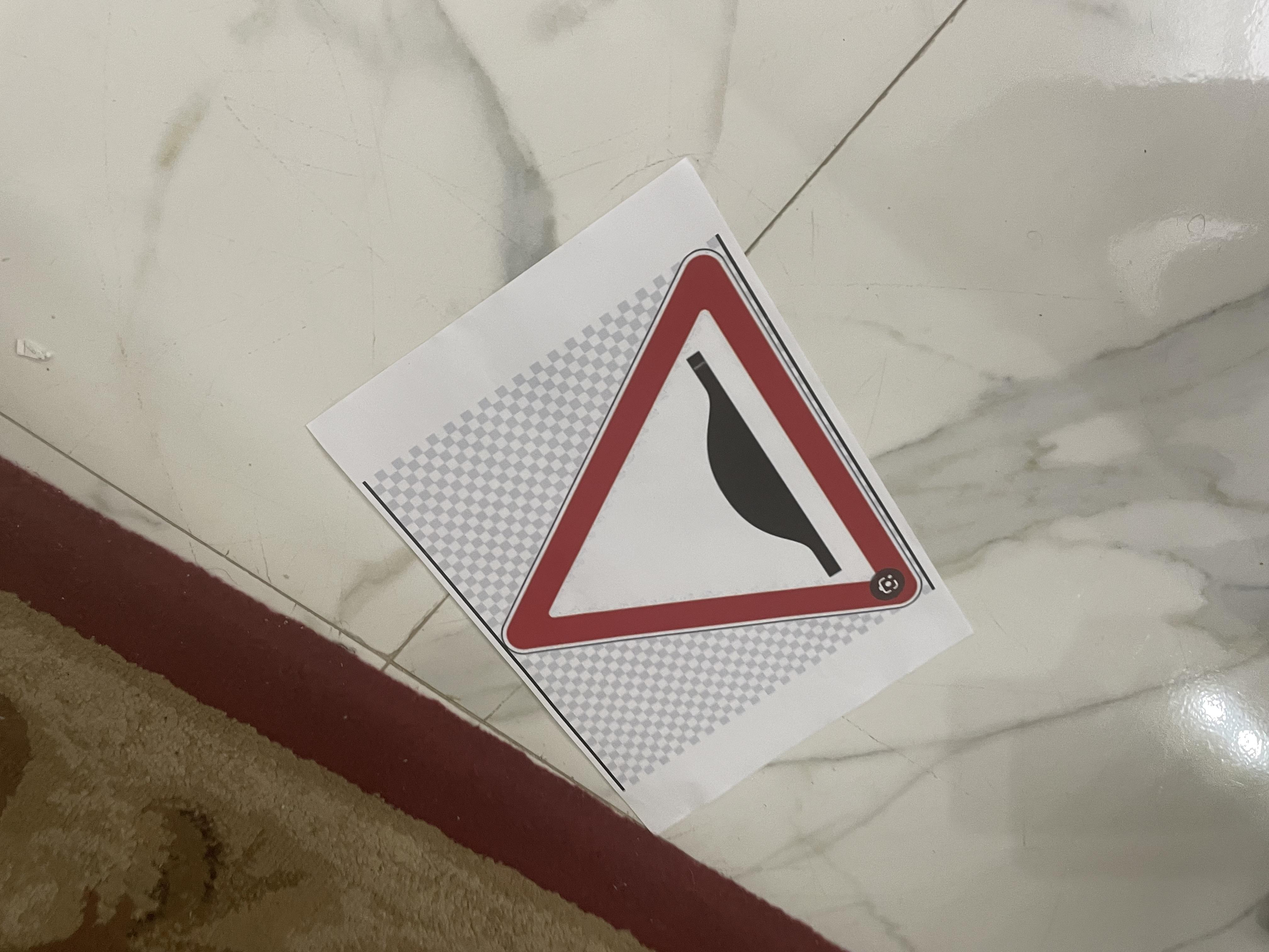Hump: (395, 359, 949, 694)
